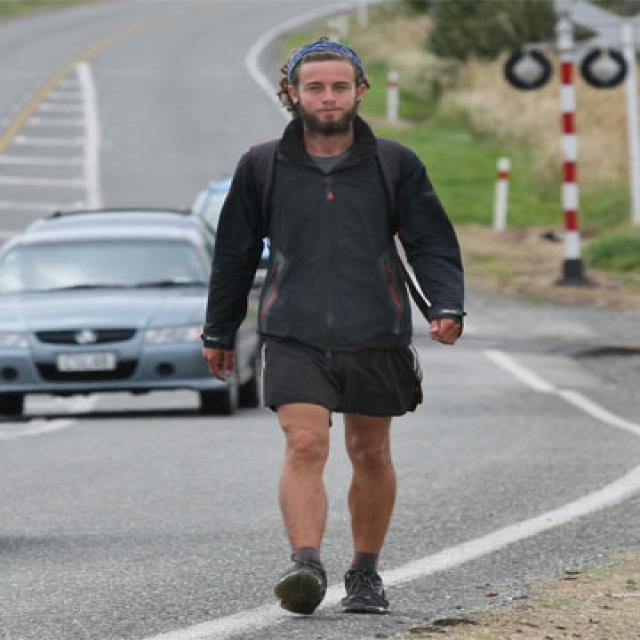No_BreathingApparatus: (293, 69, 357, 129)
No_Glove: (200, 333, 236, 383), (428, 311, 464, 347)
No_Goggles: (299, 77, 353, 95)
No_Harness: (228, 137, 446, 360)
No_Helmet: (273, 24, 376, 84)
Person: (191, 32, 446, 634)
